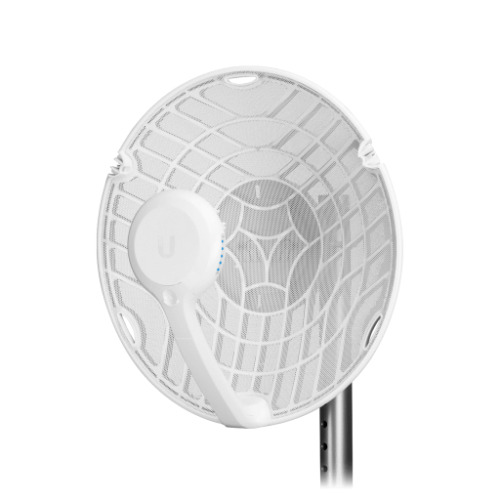ba: (71, 46, 402, 466)
